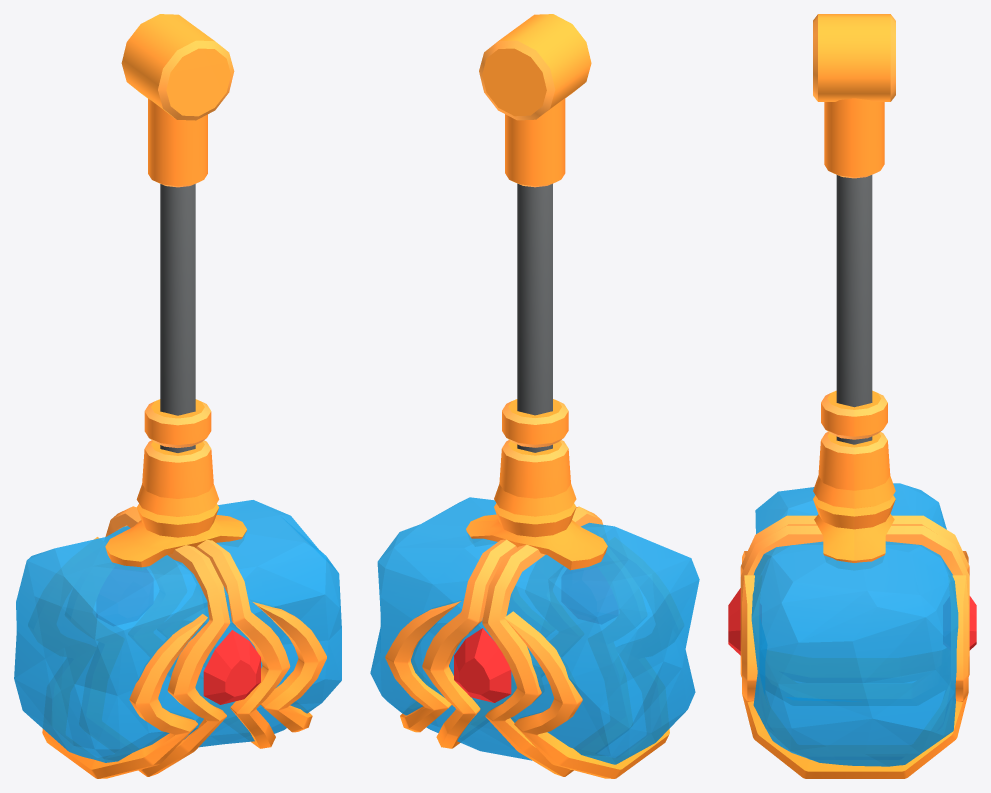
File: obstacle_1_001.glb
3 renders of one model, left to right at view 1: azimuth 30°, elevation 25°; view 2: azimuth 150°, elevation 25°; view 3: azimuth 270°, elevation 25°, orthographic.
Visible parts, largest first — view 1: obstacle_1_002, obstacle_1_001; view 2: obstacle_1_002, obstacle_1_001; view 3: obstacle_1_002, obstacle_1_001.
Boxes of the visible parts, left/top/right/bottom form: obstacle_1_002: left=14, top=98, right=341, bottom=778; obstacle_1_001: left=121, top=14, right=234, bottom=120; obstacle_1_002: left=370, top=98, right=699, bottom=778; obstacle_1_001: left=479, top=14, right=591, bottom=120; obstacle_1_002: left=728, top=98, right=976, bottom=778; obstacle_1_001: left=813, top=14, right=895, bottom=101.
Size of the model in its own units: 1.92 by 4.84 by 1.53.
Materials: 3 (3 with a texture image).
